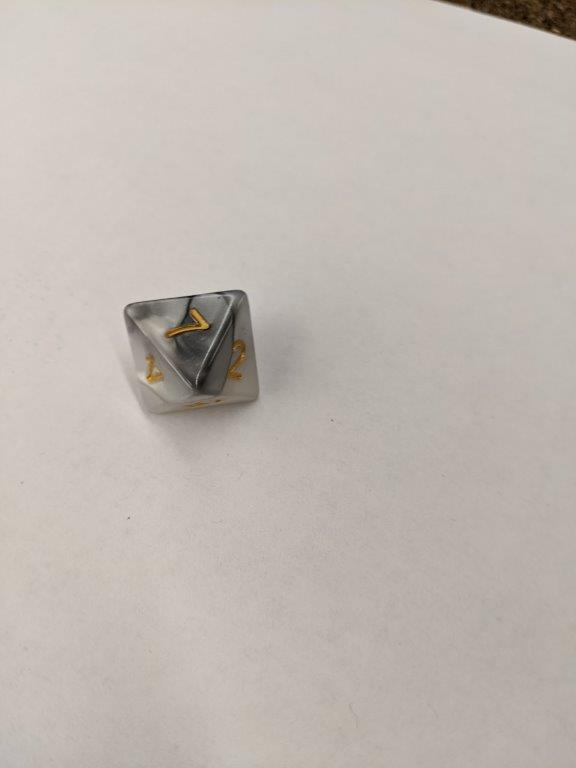d8-7: (125, 287, 261, 417)
